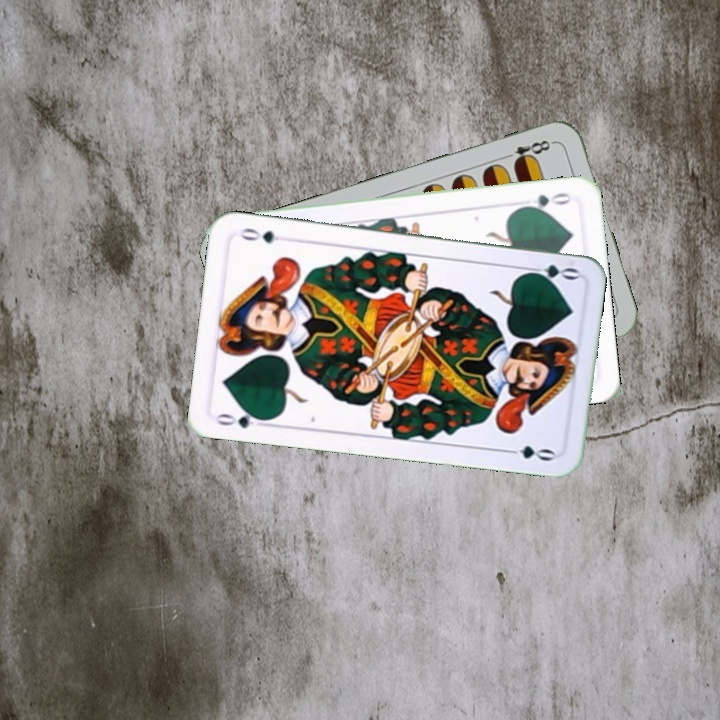E8: (499, 136, 557, 168)
GO: (212, 406, 271, 431), (520, 260, 580, 283), (517, 189, 574, 213)
